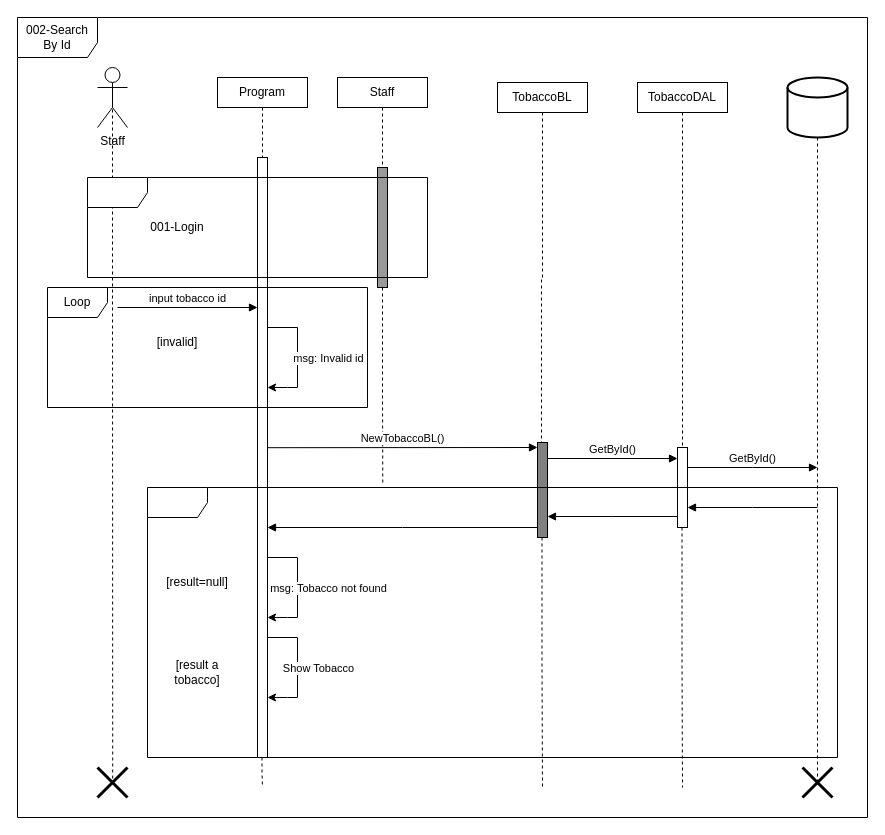
This 885x835 diagram has some shape labels left out. The shapes that lost their labels are listed below. From the top down, each one's box as (x1, y1, x2, y2) in pixels, then its label:
(786, 76, 848, 138): DB
(86, 176, 428, 278): ref
(146, 486, 838, 758): alt
